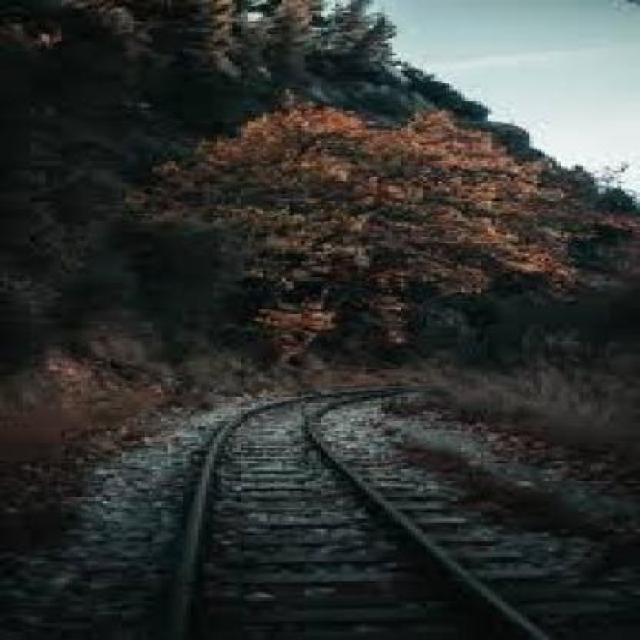rail: (92, 372, 603, 639)
